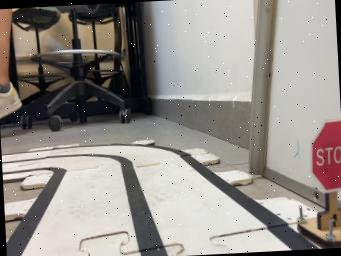stop: (297, 119, 341, 248), (297, 119, 341, 248), (297, 119, 341, 248), (297, 119, 341, 248), (297, 119, 341, 248)
street: (1, 144, 320, 256), (1, 144, 320, 256), (1, 144, 320, 256), (1, 144, 320, 256), (1, 144, 320, 256)
